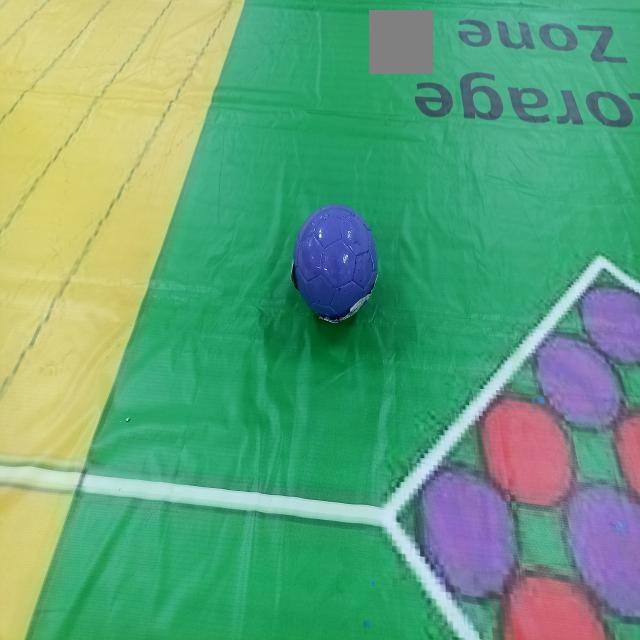purple_ball: (289, 190, 392, 330)
